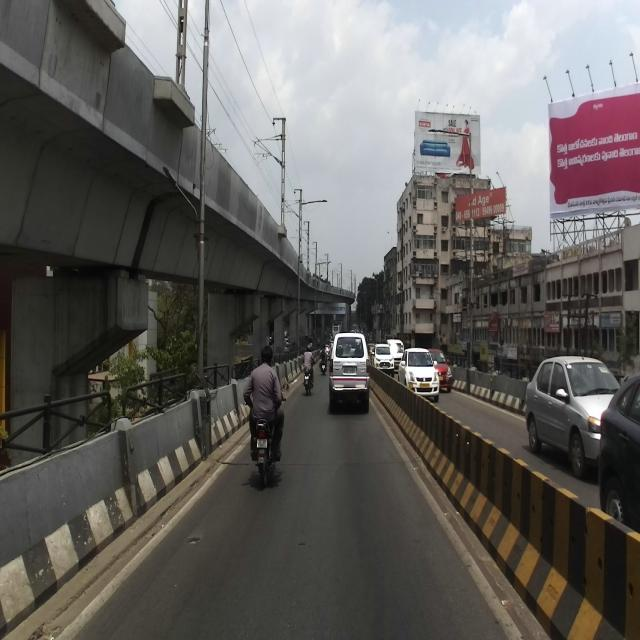Car_Chevrolet: (326, 331, 370, 413)
Car_Maruti-Suzuki: (398, 346, 439, 401)
Car_TATA: (524, 349, 622, 478)
motorcycle_Hero: (248, 382, 289, 487)
